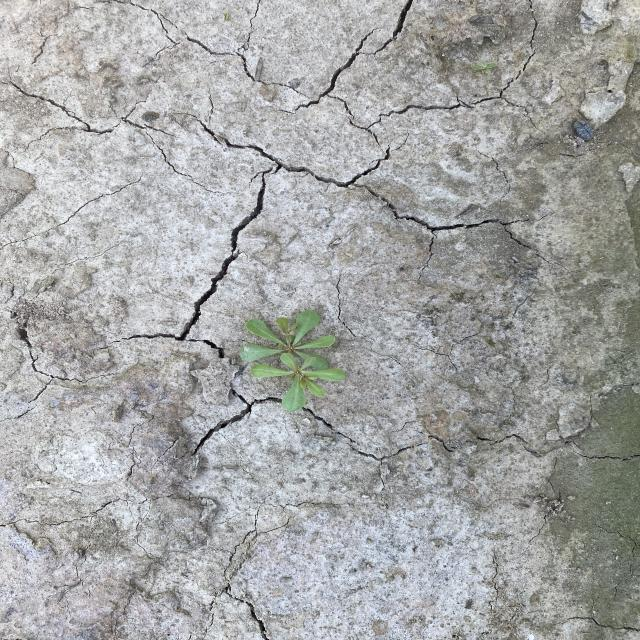Carpetweed: (235, 308, 347, 412)
